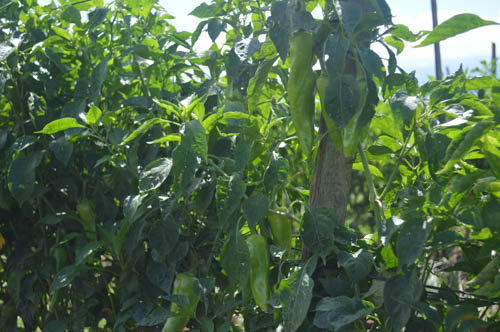ChiliPepper: (159, 275, 200, 331), (242, 235, 272, 309), (287, 76, 316, 150), (341, 76, 365, 156), (316, 75, 341, 141), (287, 32, 313, 89), (74, 202, 102, 241), (267, 207, 290, 250)
